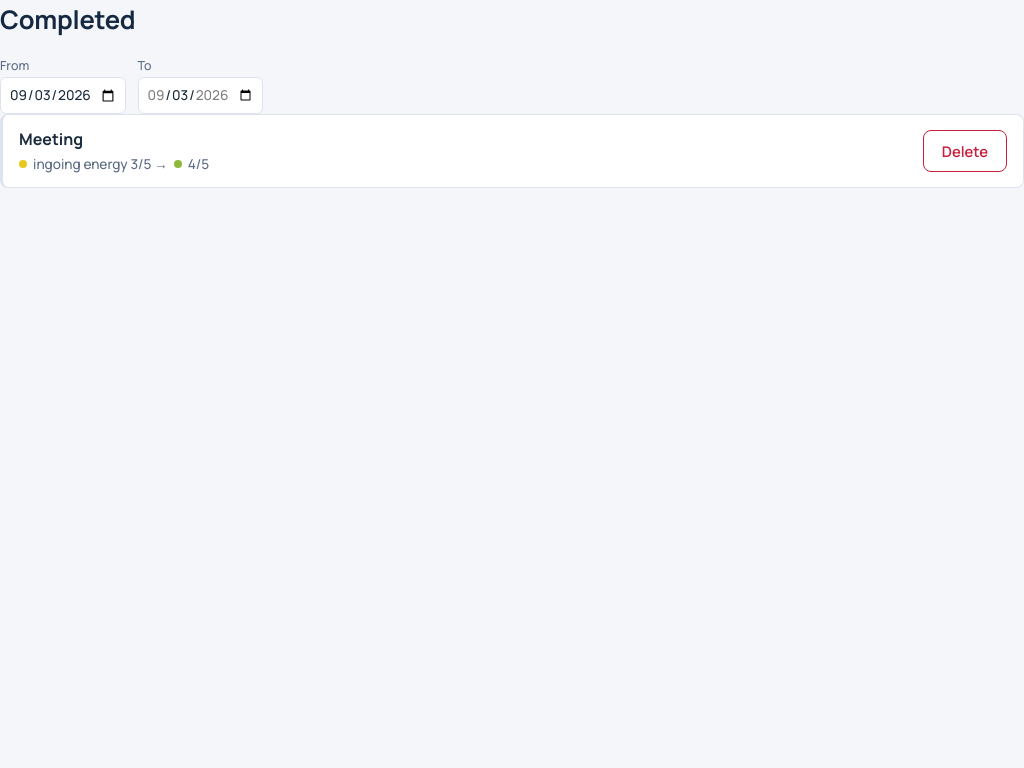
Test: CompletedPage › opens the edit dialog for a clicked event and refreshes the list once saved
Expected: the text "Meeting" is shown, [19,128,83,150]
Click the button "Meeting ingoing energy 3/5 → 4/5". click: (51,139)
box: [19,127,911,175]
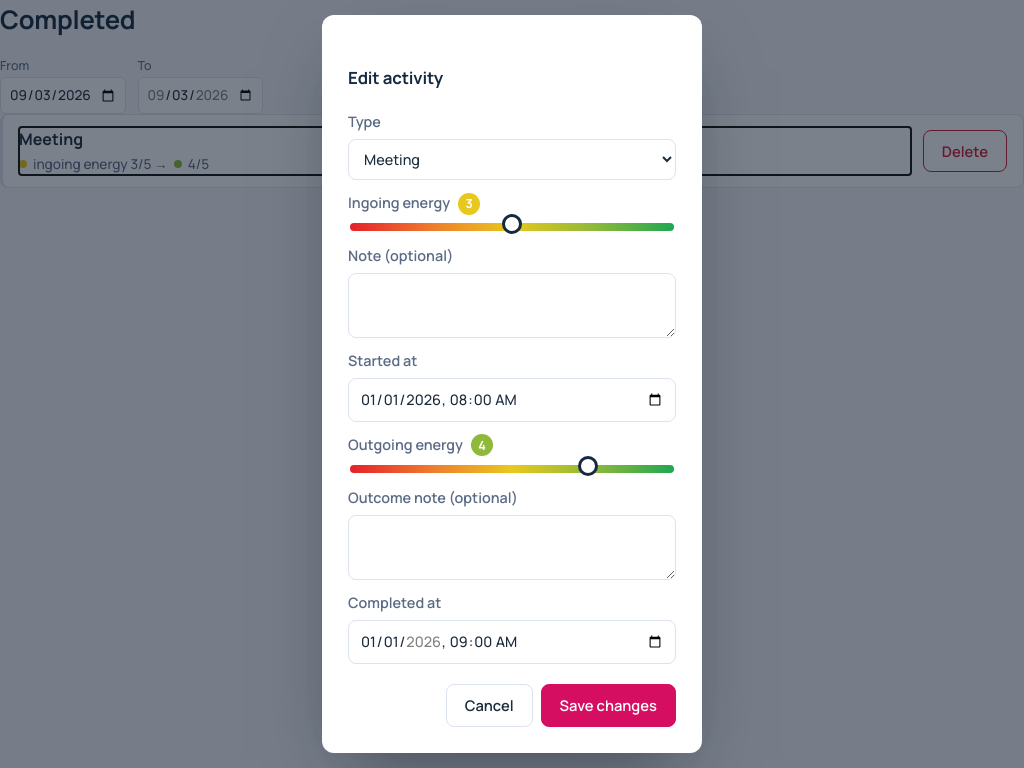
Expected: the heading "Edit activity" is shown, [348,66,443,89]
Click the button "Save changes". click: (608,706)
box: [541,684,676,727]
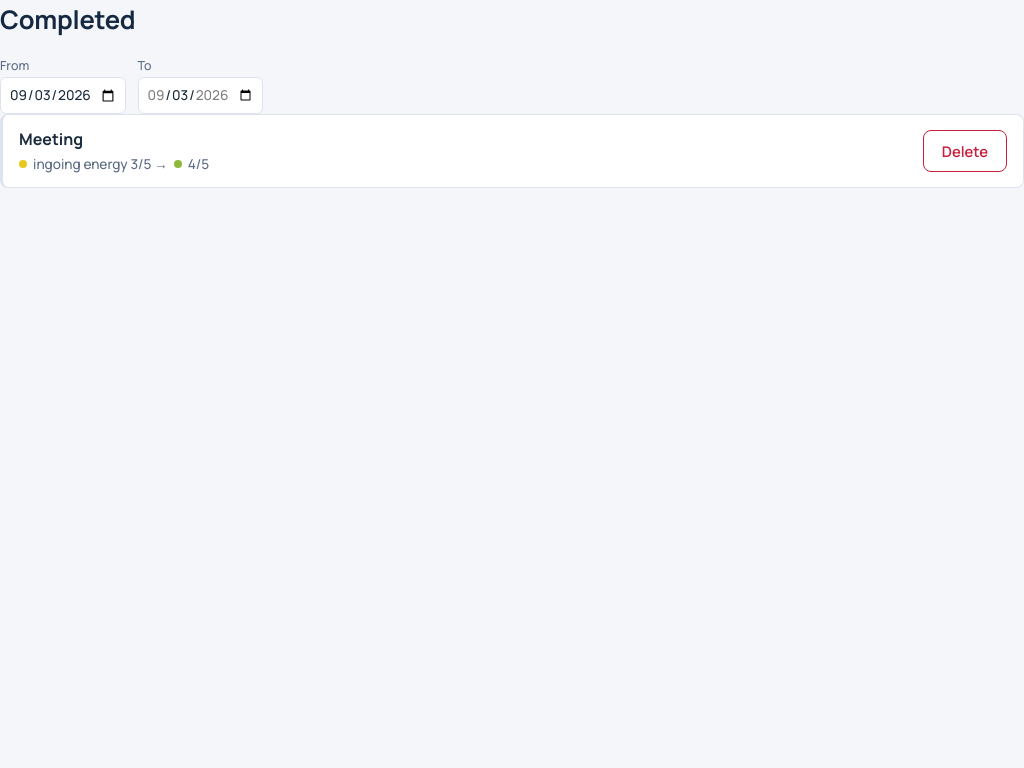
Expected: the heading "Edit activity" is gone
